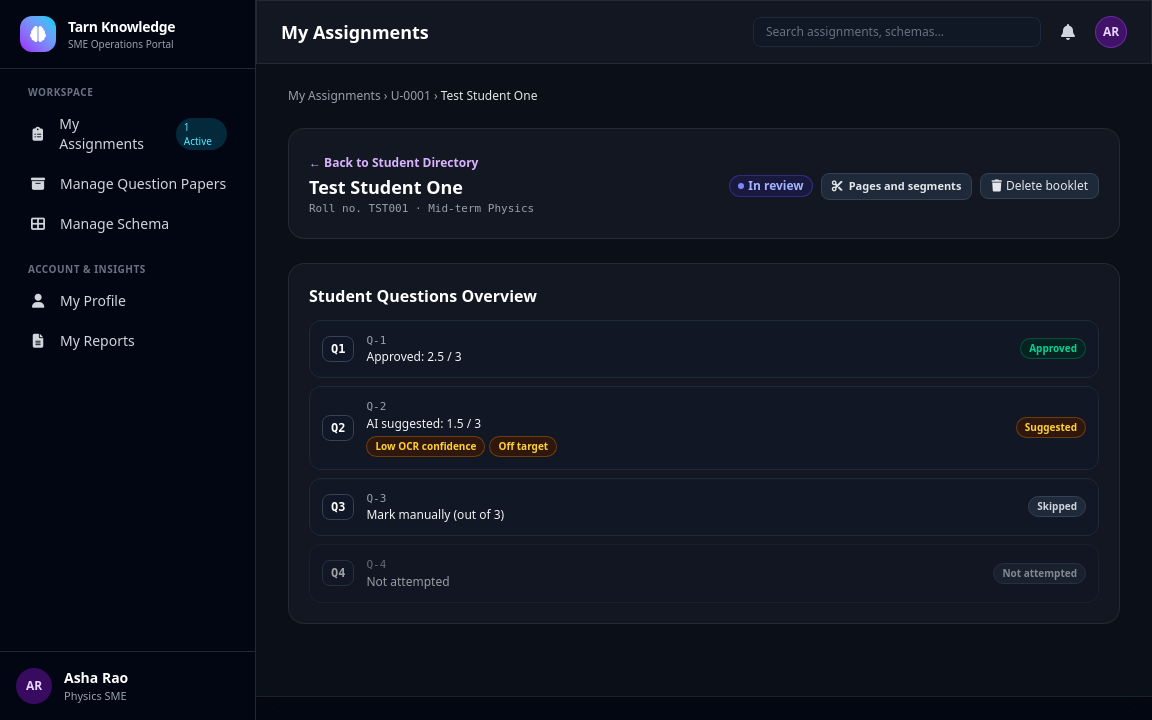
Test: Question list (P32, D217) › deletes the booklet after asking, then returns to the student list
The image size is (1152, 720).
Click the button "Delete booklet".
click(1040, 186)  # box [980, 173, 1099, 199]
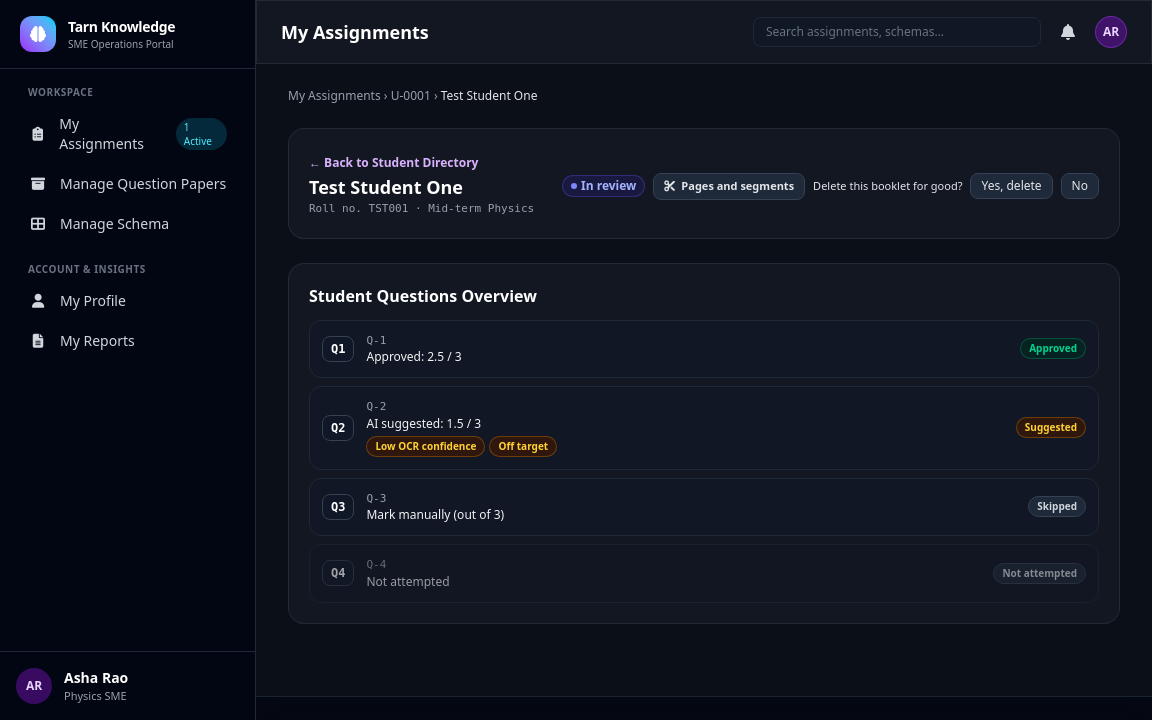
Click the button "Yes, delete".
click(1012, 186)  # box [970, 173, 1053, 199]
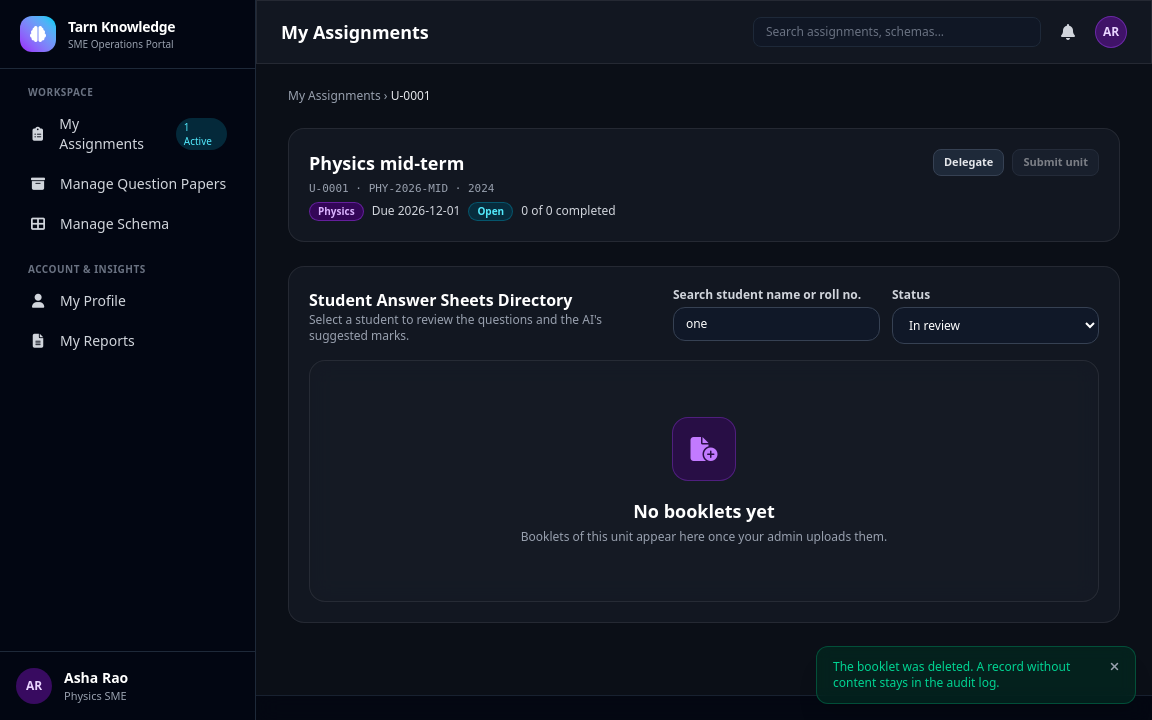
Result: the text "The booklet was deleted" is shown at [833, 658, 1070, 691]
Result: the search field labelled "Search student name or roll no." holds "one" at [673, 307, 880, 341]
